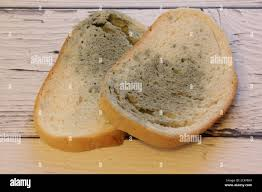mold_bread: (130, 52, 206, 129), (75, 8, 144, 64), (85, 68, 124, 109)
